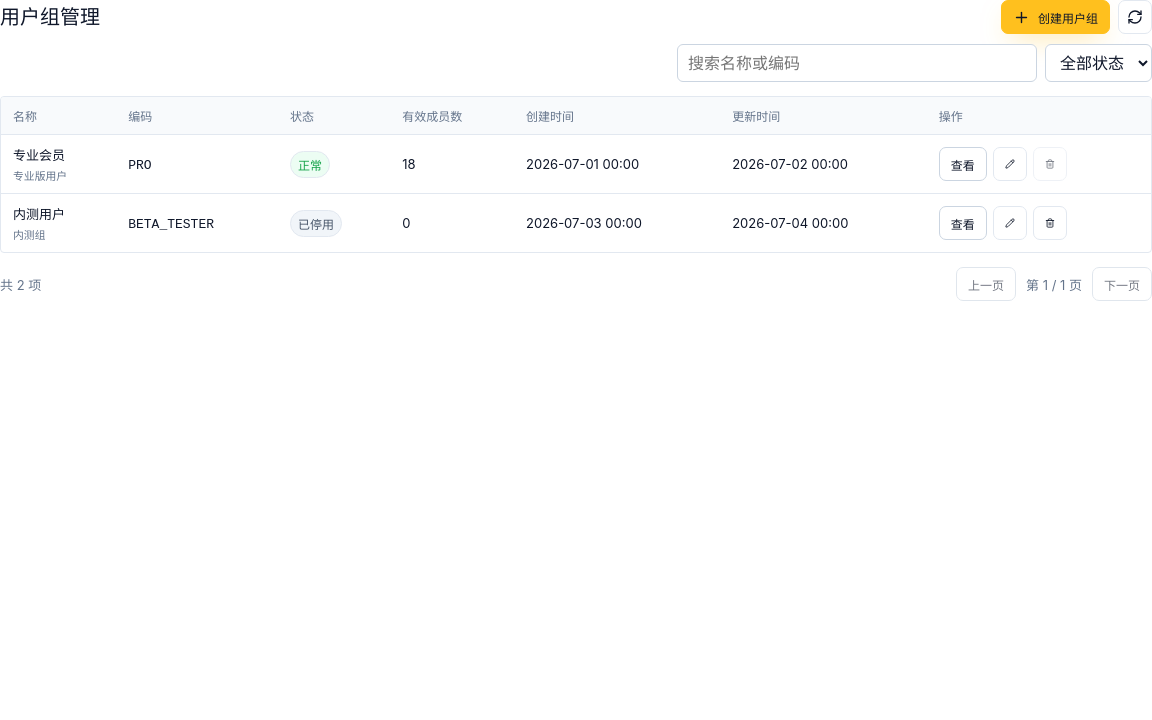
Scenario: UserGroupManagementPage › only deletes disabled groups after irreversible confirmation
Expected: the text "内测用户" is shown, [13, 204, 65, 223]
Expected: the button named "删除用户组 专业会员" is disabled, [1033, 147, 1067, 181]
Click the button named "删除用户组 内测用户" at (1050, 223), box [1033, 206, 1067, 240]
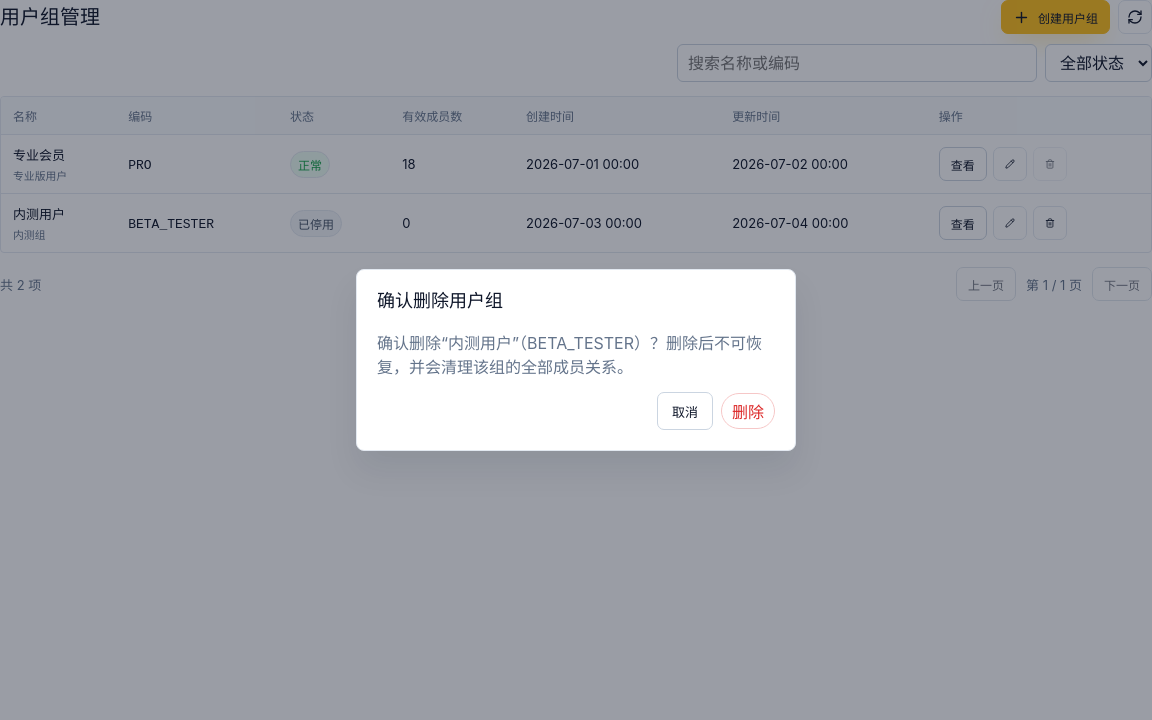
Expected: the dialog "确认删除用户组" shows "删除后不可恢复，并会清理该组的全部成员关系", [377, 333, 762, 377]
Click the button "删除" at (748, 411), box [721, 393, 775, 429]
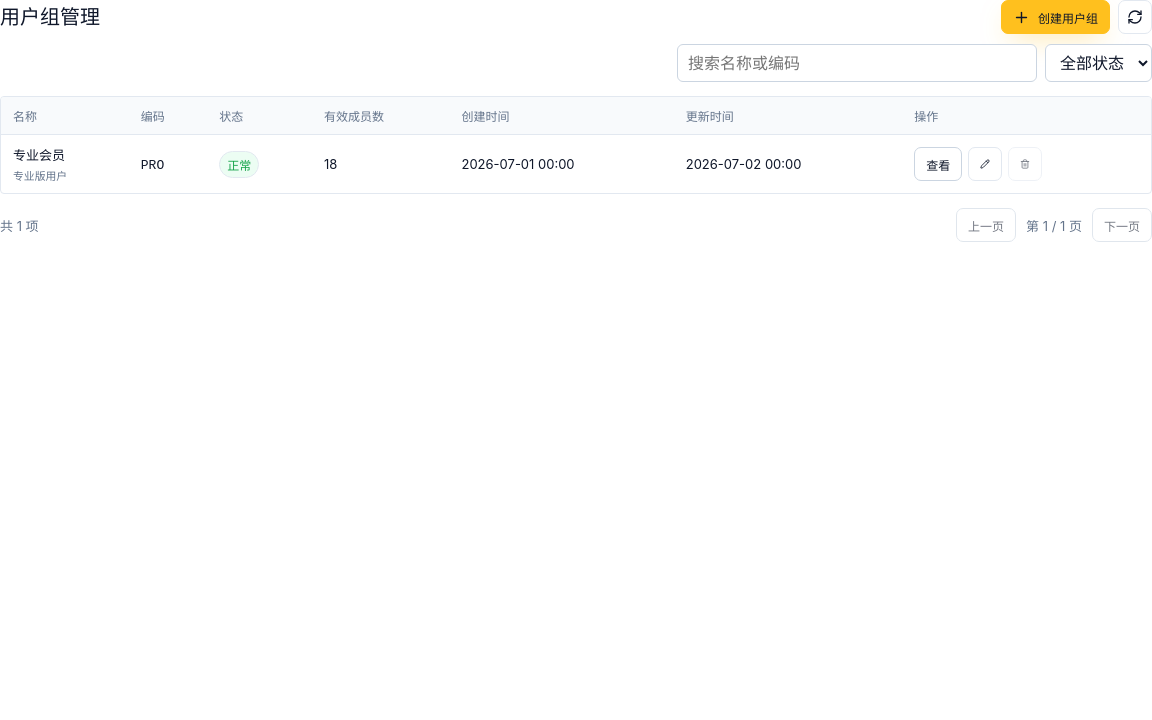
Expected: the button "内测用户" is gone
